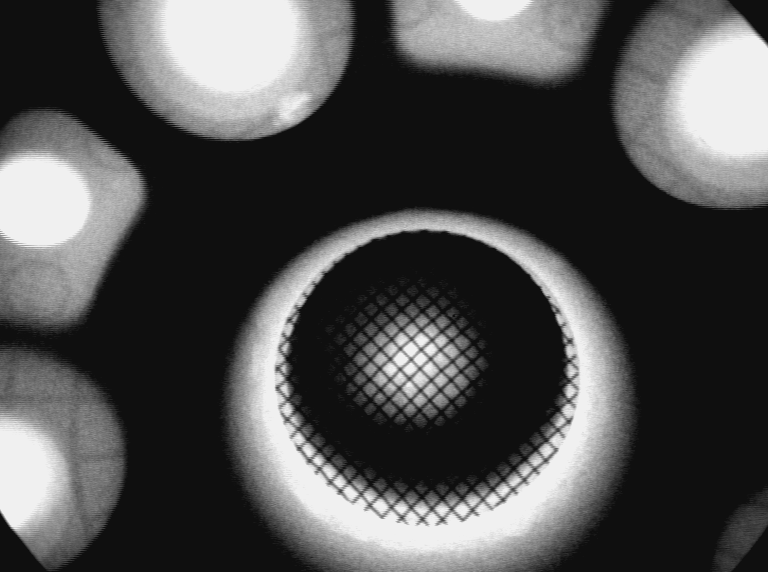defect: (276, 91, 314, 130)
